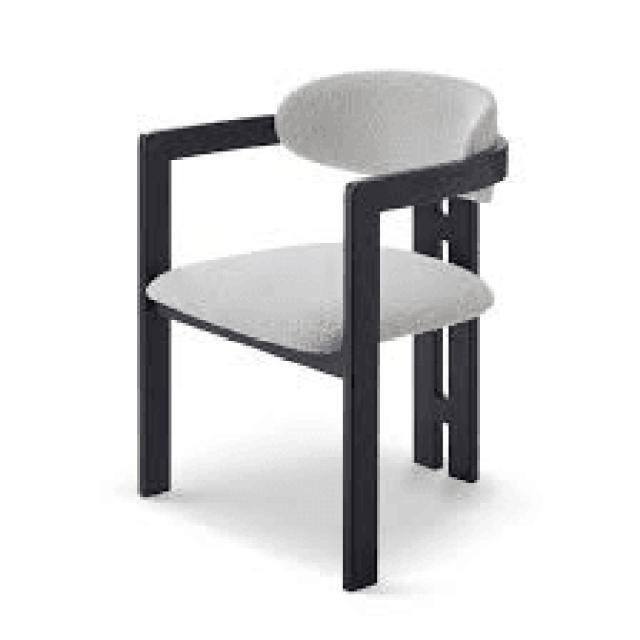chair: (132, 63, 512, 602), (141, 75, 502, 327)
